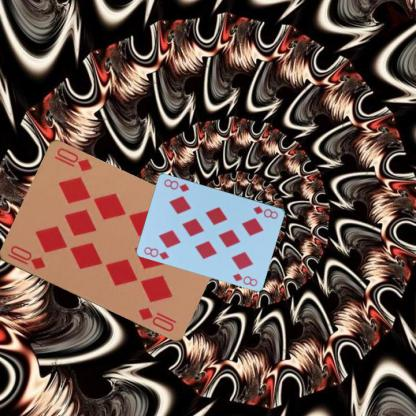10d: (4, 243, 46, 271)
8d: (250, 204, 280, 220), (142, 244, 170, 260)
